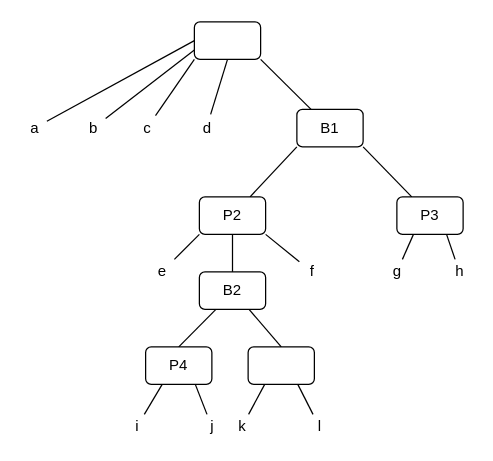
Some shapes in this 493 by 461 pixel diagram are drawn without their labels. Each missing label, with the centre of its shape:
"P1" goes at [227,40].
"P5" goes at [280,365].
